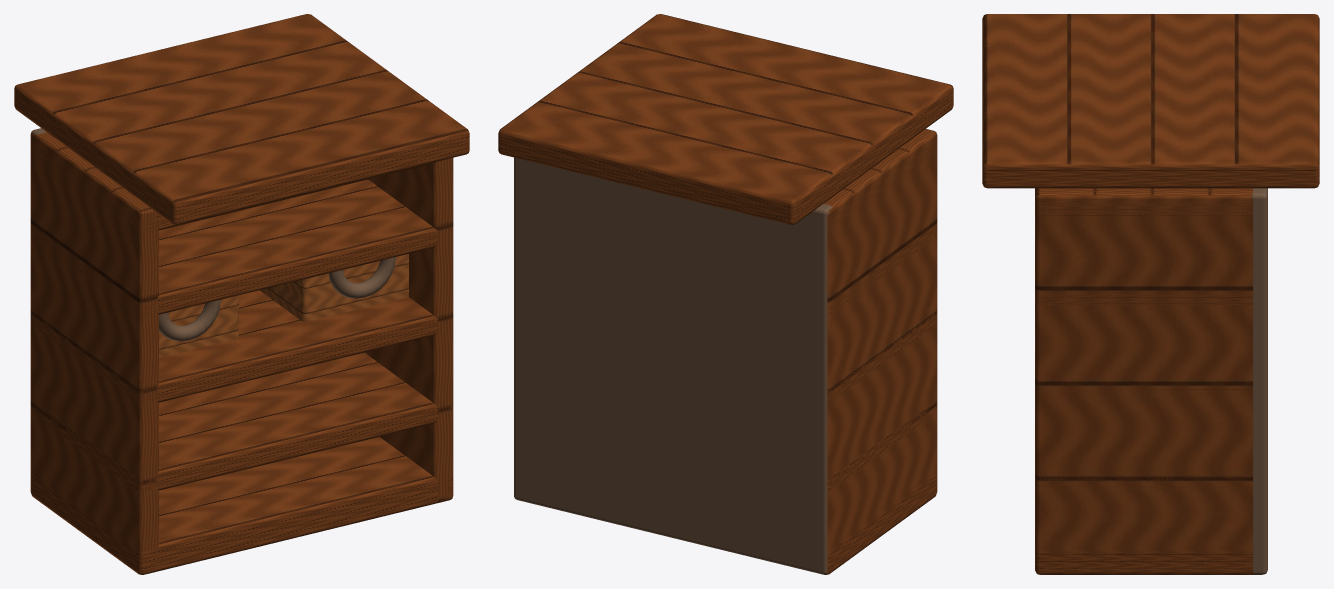
Rendered from adventurers-tavern-and-guild-hall-message-pigeon-box-60bb2c28__24759.glb.
The picture shows the model from 3 angles, left to right: view 1: azimuth 30°, elevation 25°; view 2: azimuth 150°, elevation 25°; view 3: azimuth 270°, elevation 25°; orthographic projection. The views are drawn at different scales.
Parts seen in each view (by area): view 1: message-pigeon-box; view 2: message-pigeon-box; view 3: message-pigeon-box.
Boxes of the visible parts, x1,y1,x2,y2 form: message-pigeon-box: (14,14,469,574); message-pigeon-box: (498,14,953,574); message-pigeon-box: (982,14,1319,574).
Size of the model in its own units: 0.9012 by 1.07 by 0.8.
3 materials, 2 textured.
